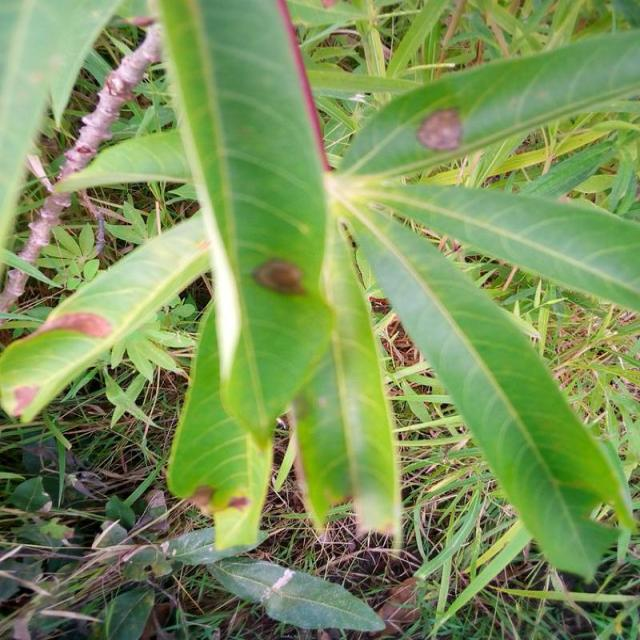cassava leaf: (2, 1, 638, 588), (338, 182, 636, 584), (154, 0, 335, 444)
